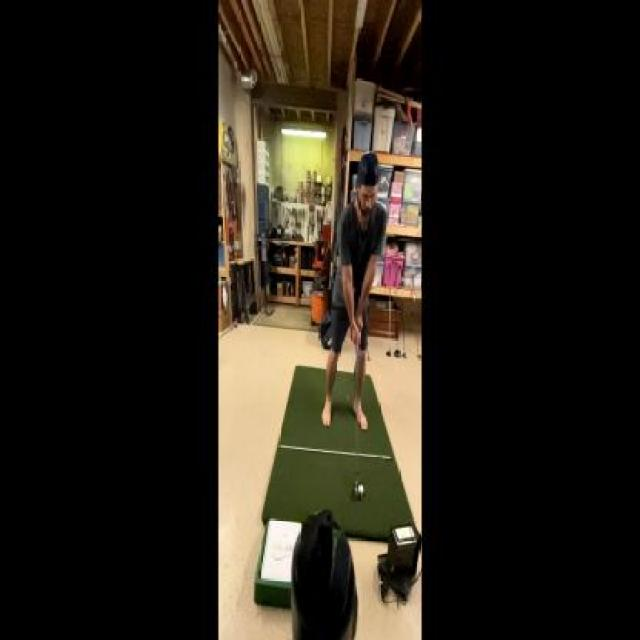club head: (352, 474, 359, 498)
